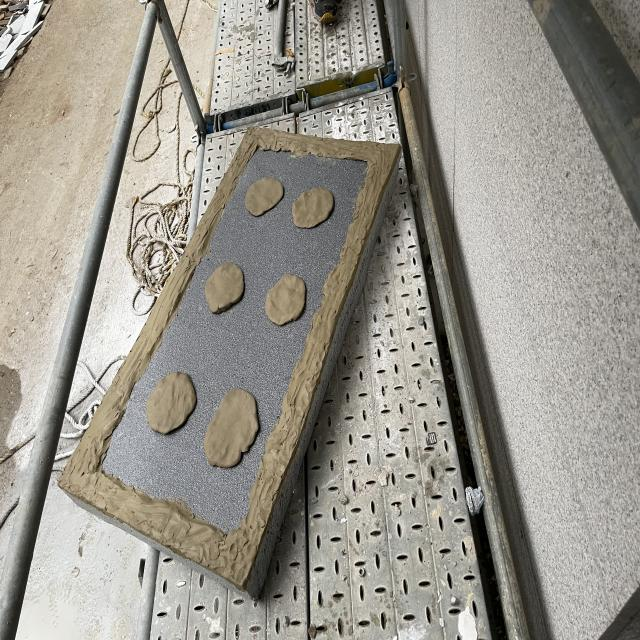dab: (204, 389, 259, 468), (146, 372, 196, 434), (265, 274, 306, 326), (205, 262, 244, 313), (292, 188, 334, 229), (245, 177, 283, 216)
insulation: (57, 126, 402, 601)
